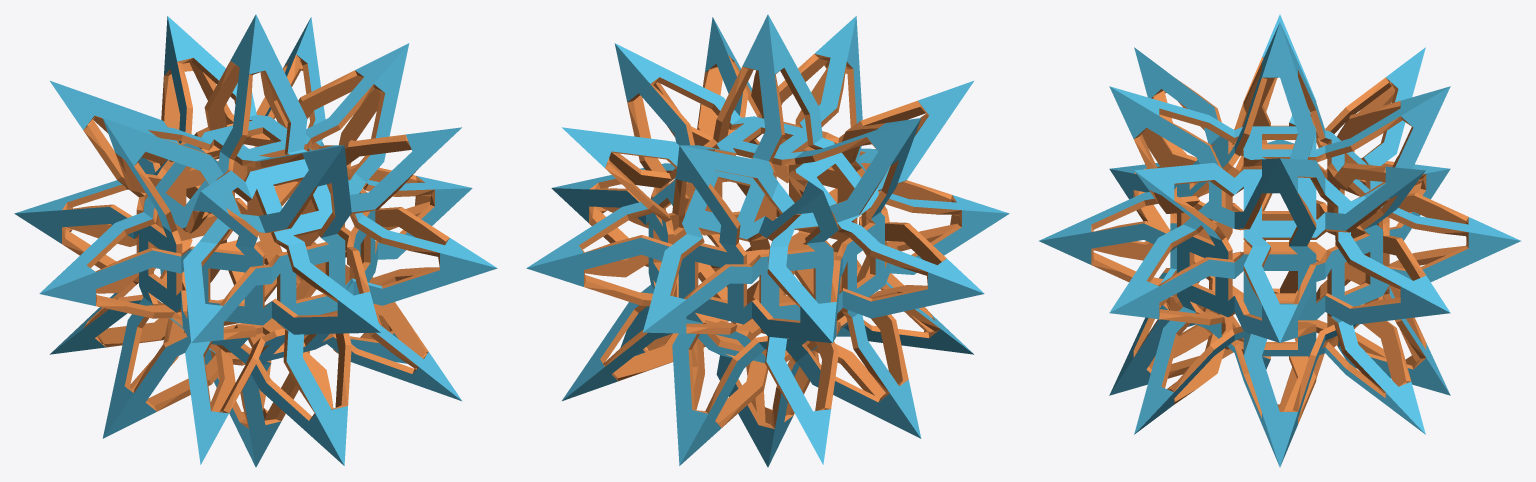
The model's file is StarPolyknotRhombicuboctahedron1.glb.
The picture shows the model from 3 angles, left to right: view 1: azimuth 30°, elevation 25°; view 2: azimuth 150°, elevation 25°; view 3: azimuth 270°, elevation 25°; orthographic projection. The views are drawn at different scales.
Parts seen in each view (by area): view 1: ESCHER_BBBa_A5; view 2: ESCHER_BBBa_A5; view 3: ESCHER_BBBa_A5.
Boxes of the visible parts, x1,y1,x2,y2 form: ESCHER_BBBa_A5: (14,14,497,467); ESCHER_BBBa_A5: (526,14,1009,467); ESCHER_BBBa_A5: (1039,14,1520,467).
Bounding box in the file's own units: 150 × 150 × 150.
